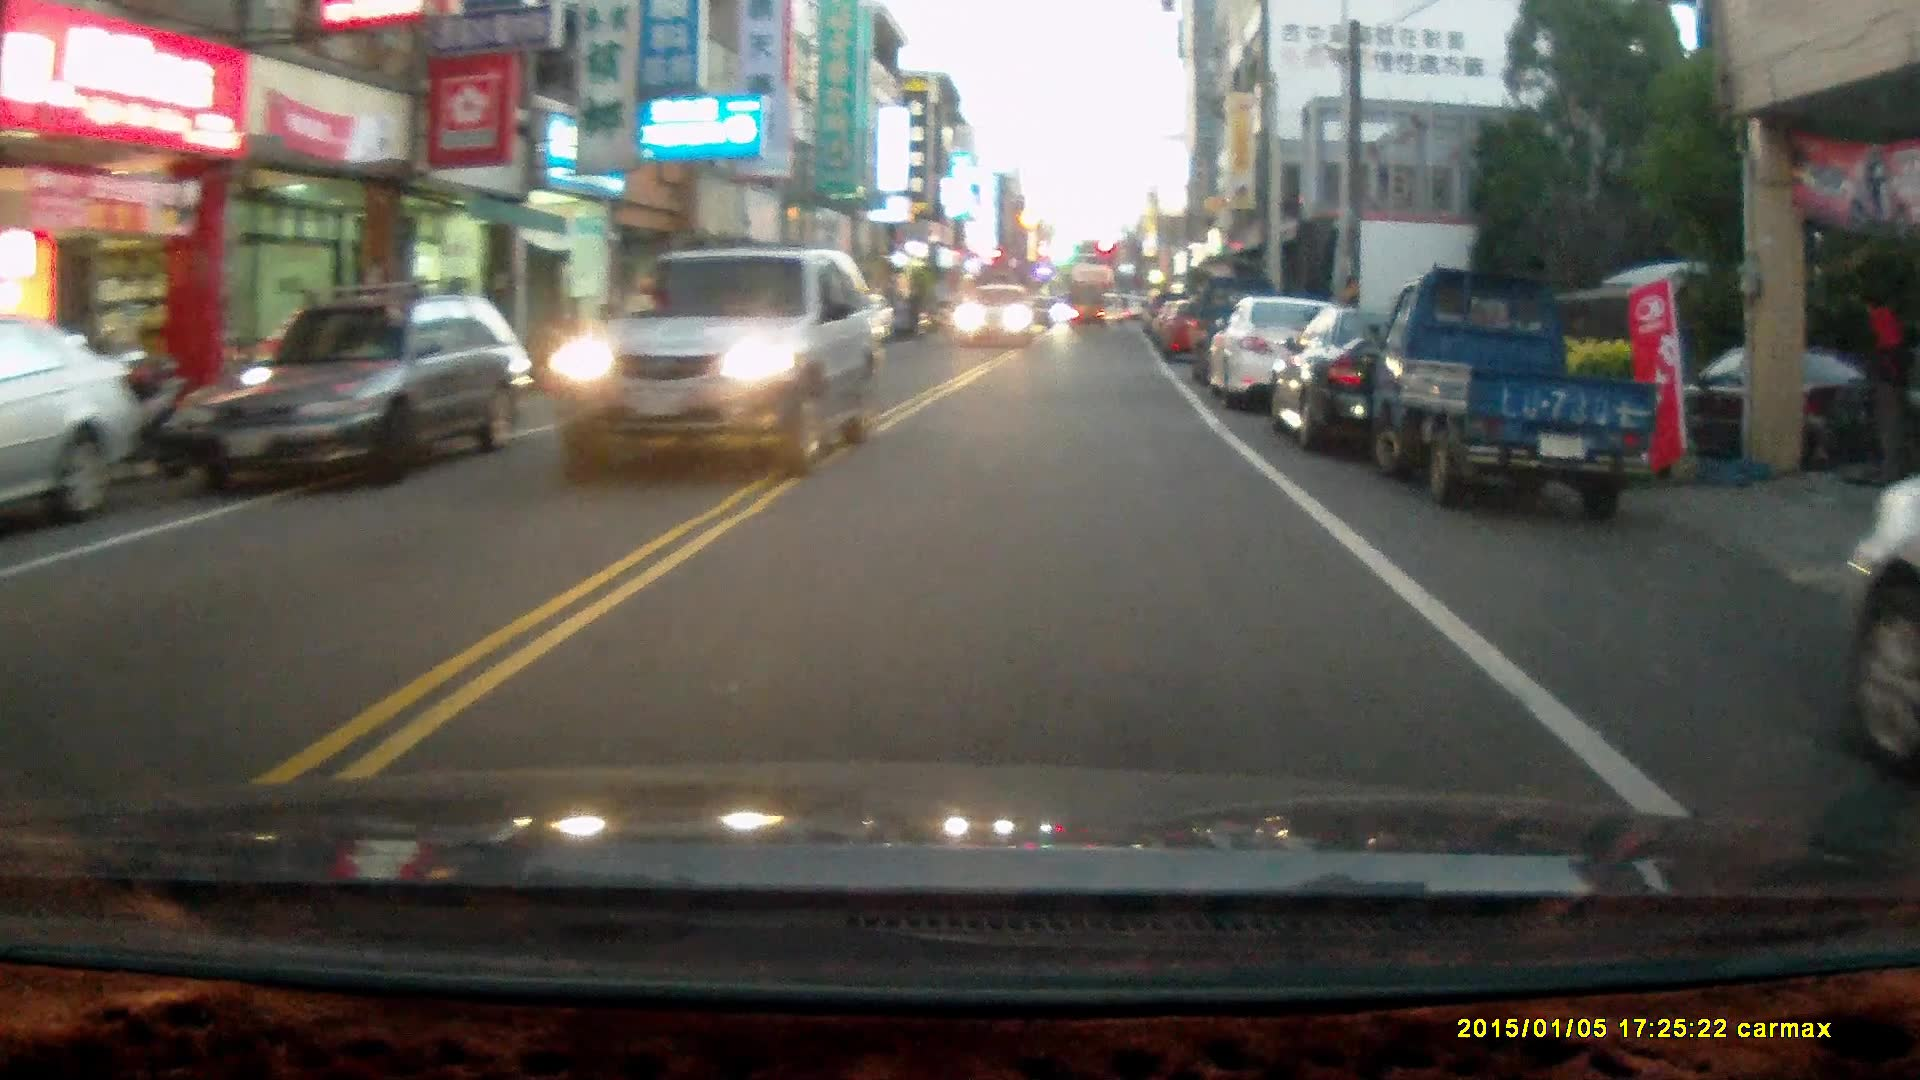pedestrian: (1852, 292, 1912, 491)
vehicle: (160, 284, 541, 492), (1367, 270, 1676, 527), (553, 242, 892, 476), (1276, 309, 1516, 453), (1203, 301, 1363, 412), (956, 286, 1038, 351), (1064, 283, 1107, 333)
